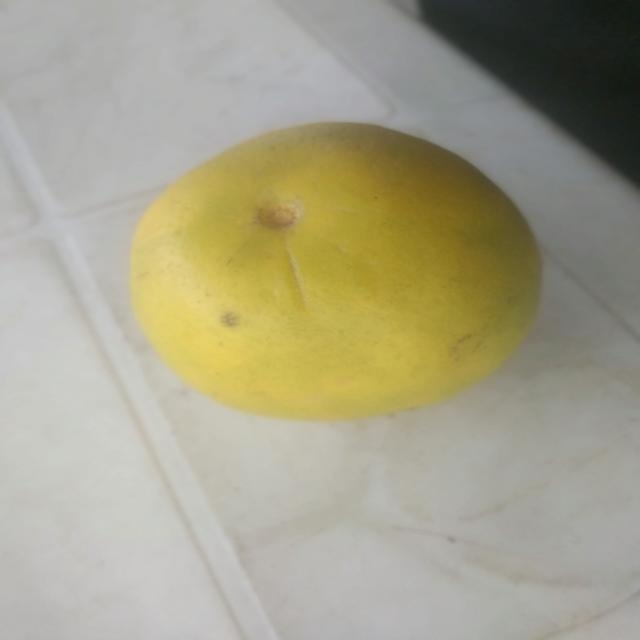agrume: (110, 106, 557, 447)
